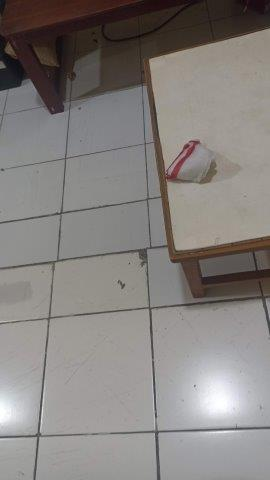plastik: (162, 137, 215, 187)
